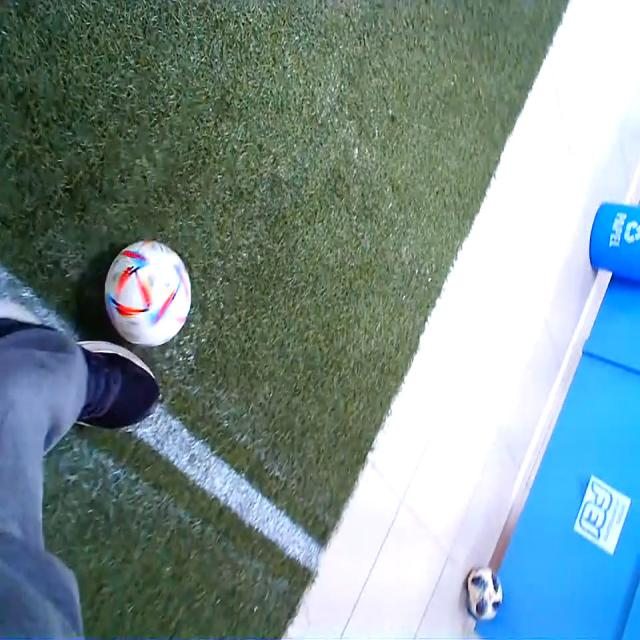ball: (104, 238, 191, 346)
